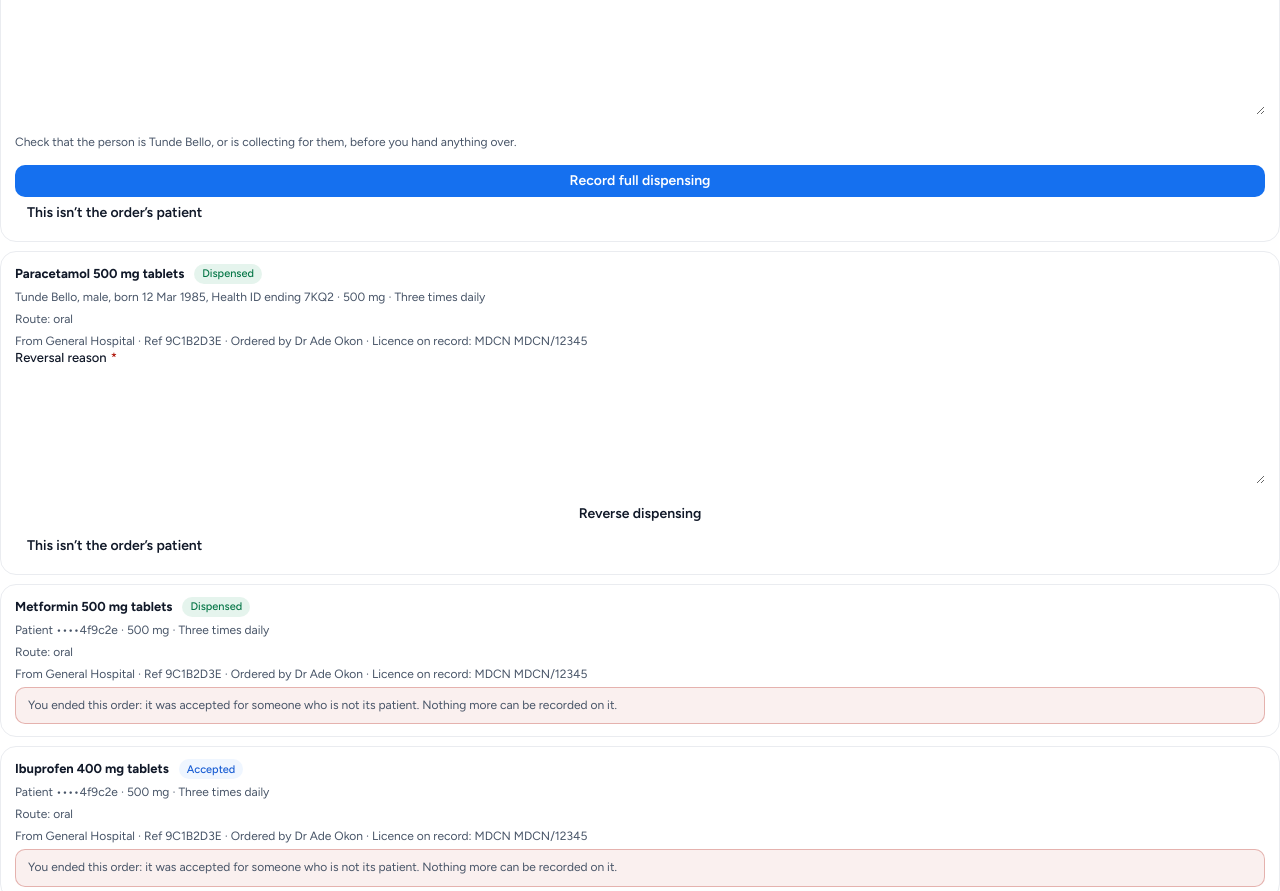
Test: this isn’t the order’s patient, on a work row › at a pharmacy: checks the person above Record full dispensing, hides the writes of an ended order, and says a dispensing is reversed
The image size is (1280, 891).
(page scrolled)
expect the button "Reverse dispensing" is shown: met, box top-left (15, 498), bottom-right (1265, 530)
Click the button "This isn’t the order’s patient" below "Reversal reason". click: (115, 546)
box: top-left (15, 530), bottom-right (214, 562)
(page scrolled)
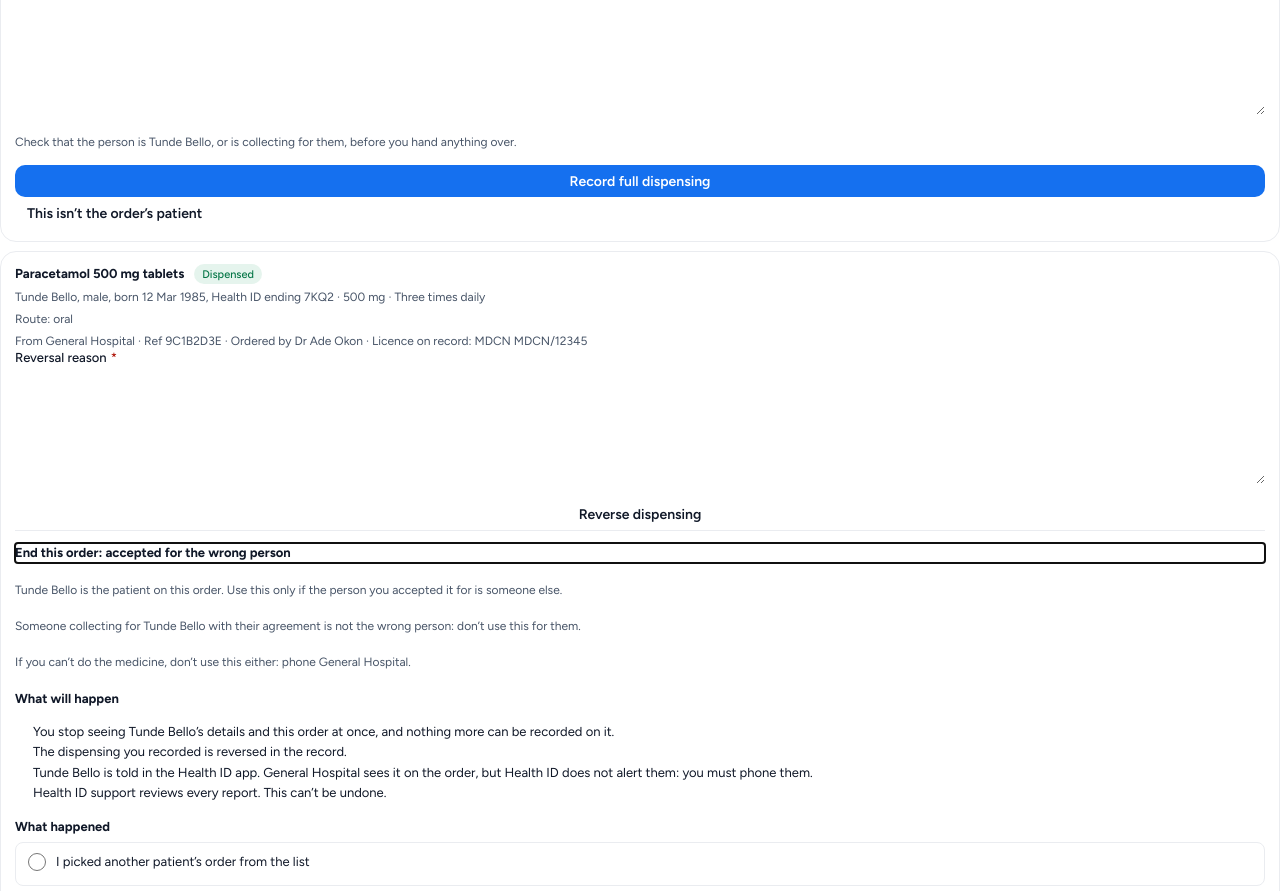
expect the list item "The dispensing you recorded is reversed in the record." is shown: met, box top-left (33, 744), bottom-right (347, 759)
Click the button "This isn’t the order’s patient". click: (115, 213)
box: top-left (15, 197), bottom-right (214, 229)
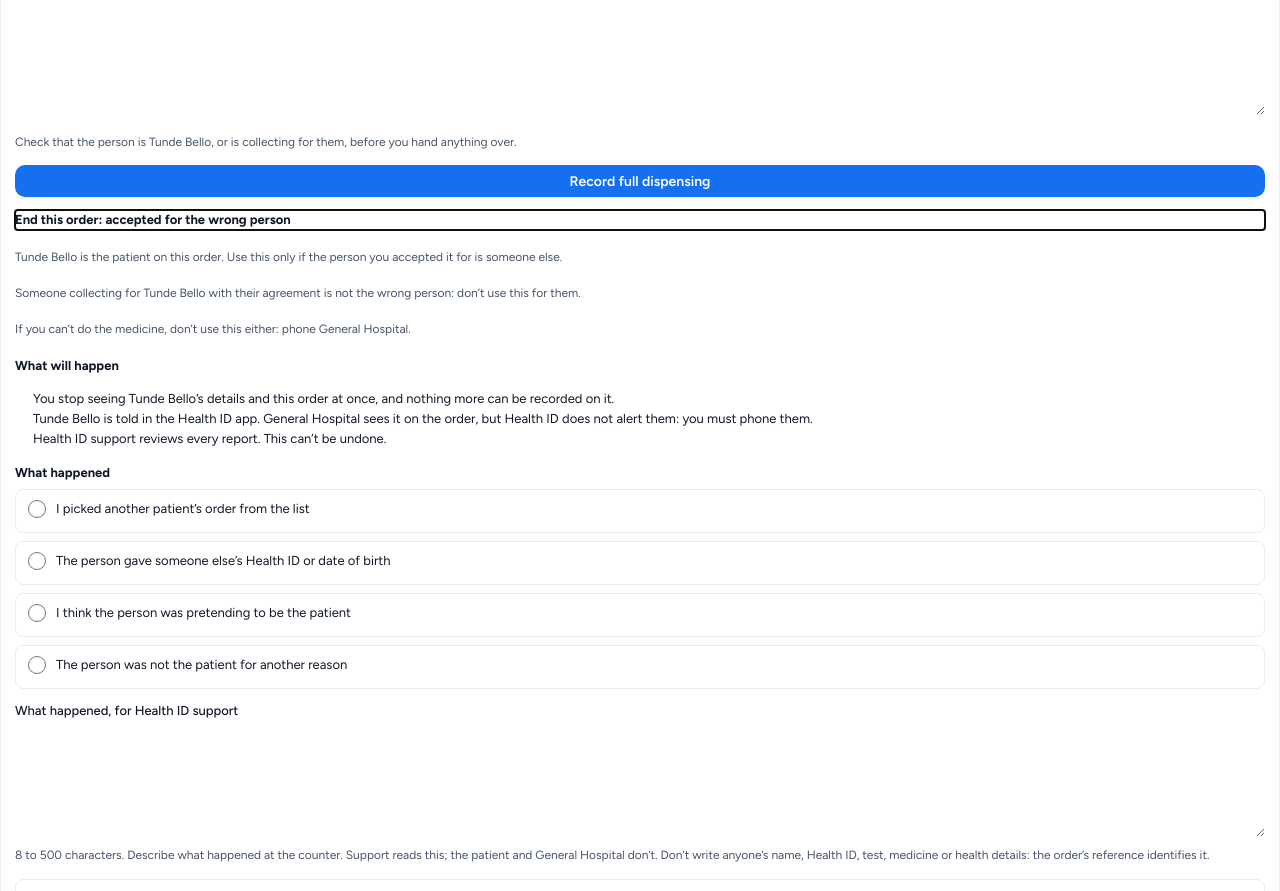
expect the text "dispensing you recorded" is not shown: met
expect the text "Someone collecting for Tunde Bello with their agreement is not the wrong person: don’t use this for them." is shown: met, box top-left (15, 286), bottom-right (581, 300)
